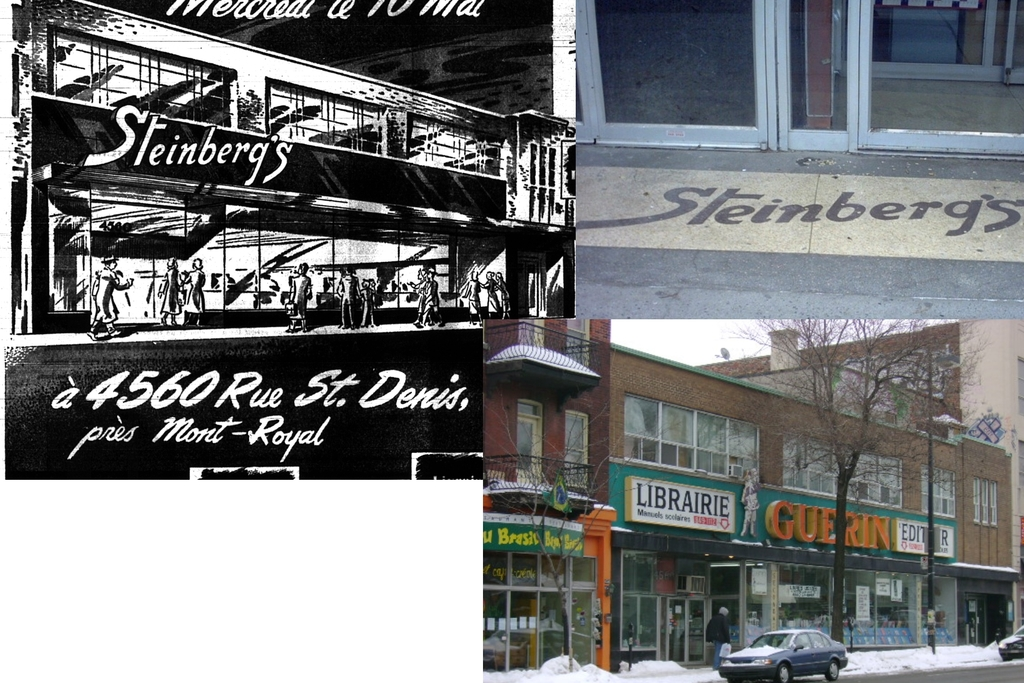Car: (717, 621, 846, 682), (997, 627, 1023, 658)
